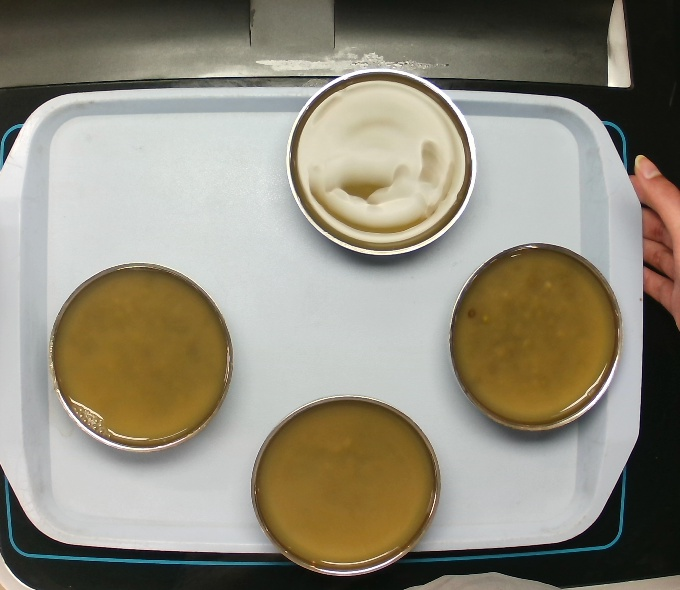wcq-LvDouTang: (253, 397, 437, 569), (449, 251, 620, 422), (53, 269, 225, 438), (295, 94, 452, 241)
